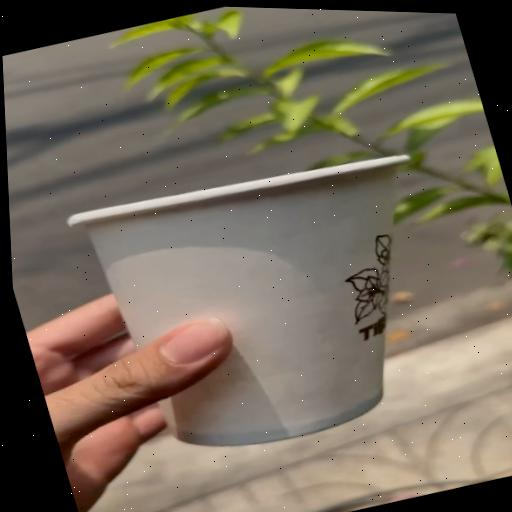Ly_giay: (68, 156, 407, 445)
